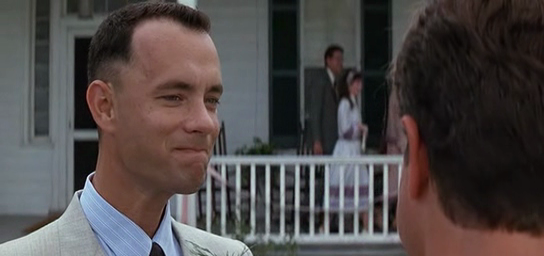cu: (1, 1, 544, 256)
face: (129, 54, 225, 194)
ots: (385, 1, 544, 256)
person: (1, 1, 253, 256), (306, 44, 352, 235), (321, 65, 369, 235)
